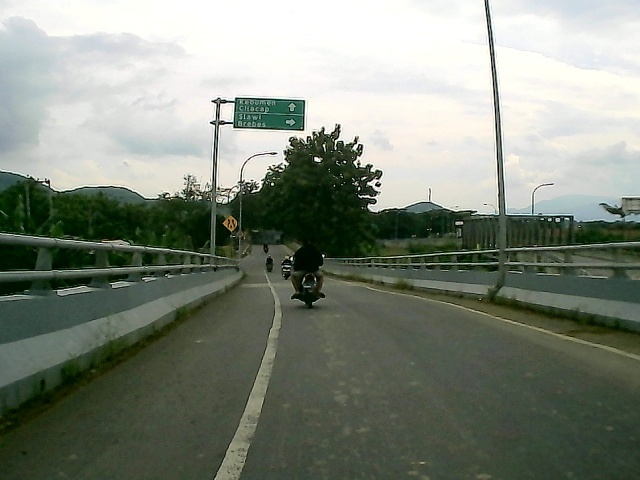Akhir bangunan pemisah satu arah: (221, 215, 239, 235)
